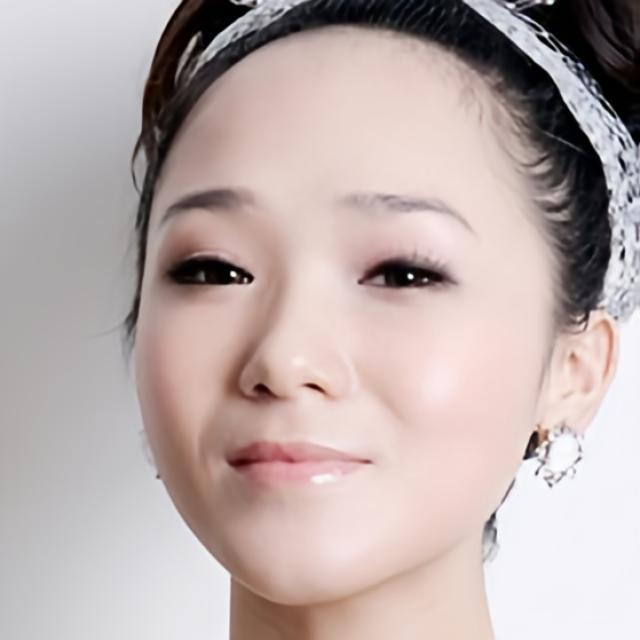content: (132, 21, 557, 608)
